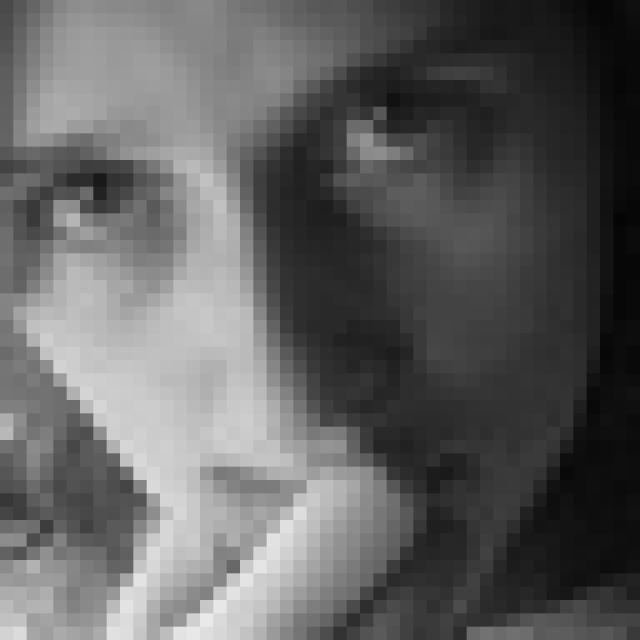fear: (0, 43, 497, 546)
